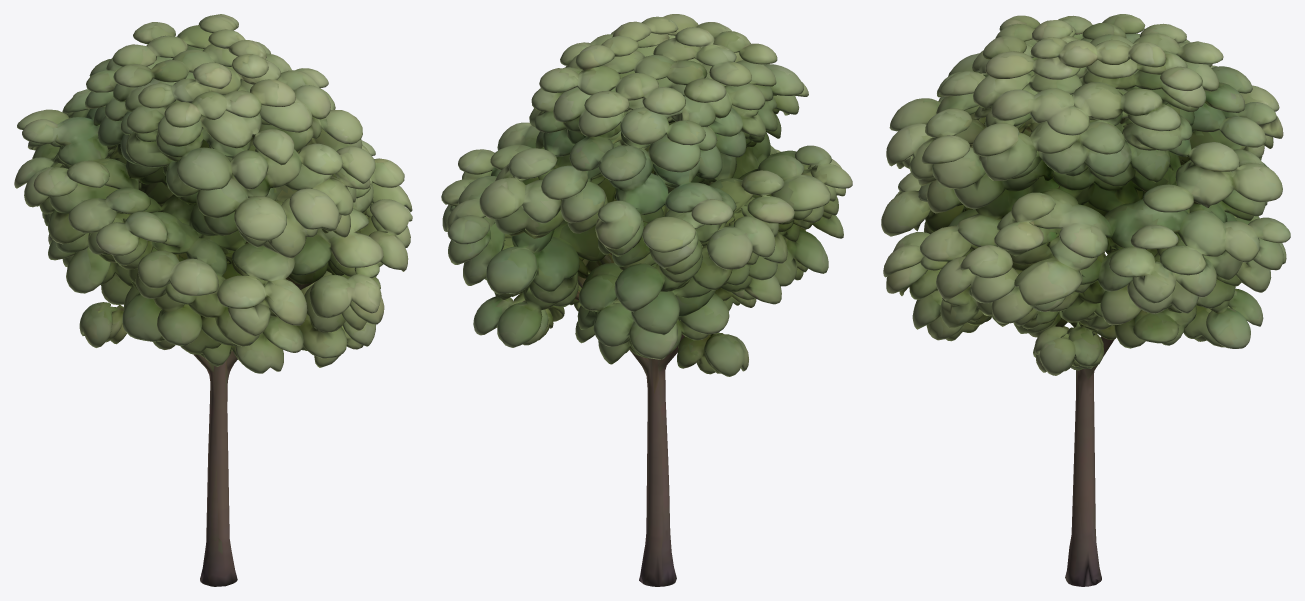
Rendered from A_leafy_street_tree_with_a_slim_trunk_in_a_square_sidewalk_grate.glb.
3 views of the same model, side by side, from view 1: azimuth 30°, elevation 25°; view 2: azimuth 150°, elevation 25°; view 3: azimuth 270°, elevation 25° (orthographic). The views are drawn at different scales.
Visible parts, largest first — view 1: node_0; view 2: node_0; view 3: node_0.
Part boxes in pixels (x1,y1,x2,y2): node_0: (14,14,412,586); node_0: (441,14,852,586); node_0: (881,14,1290,586).
Size of the model in its own units: 0.7519 by 1.17 by 0.7929.
1 material, 1 textured.
